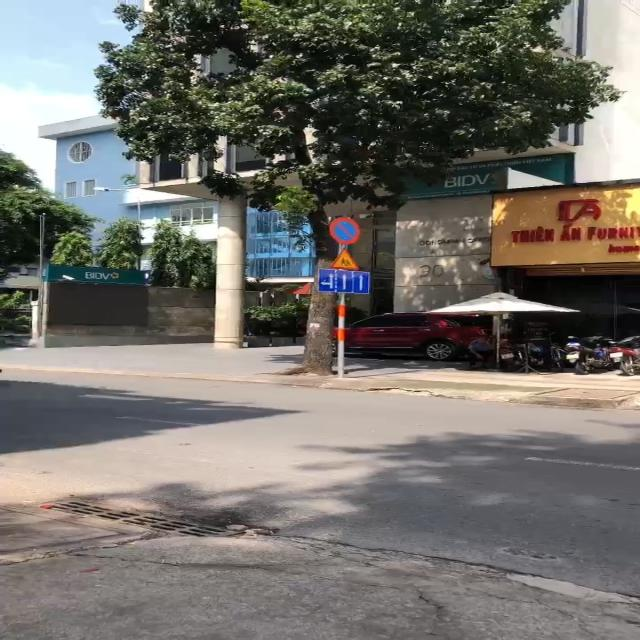Bien bao tre em: (325, 247, 362, 270)
